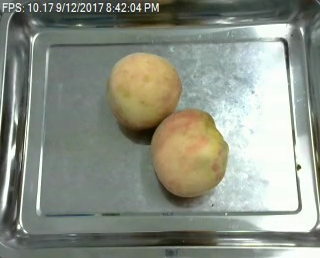Peach: (150, 107, 229, 197), (107, 50, 182, 131)
